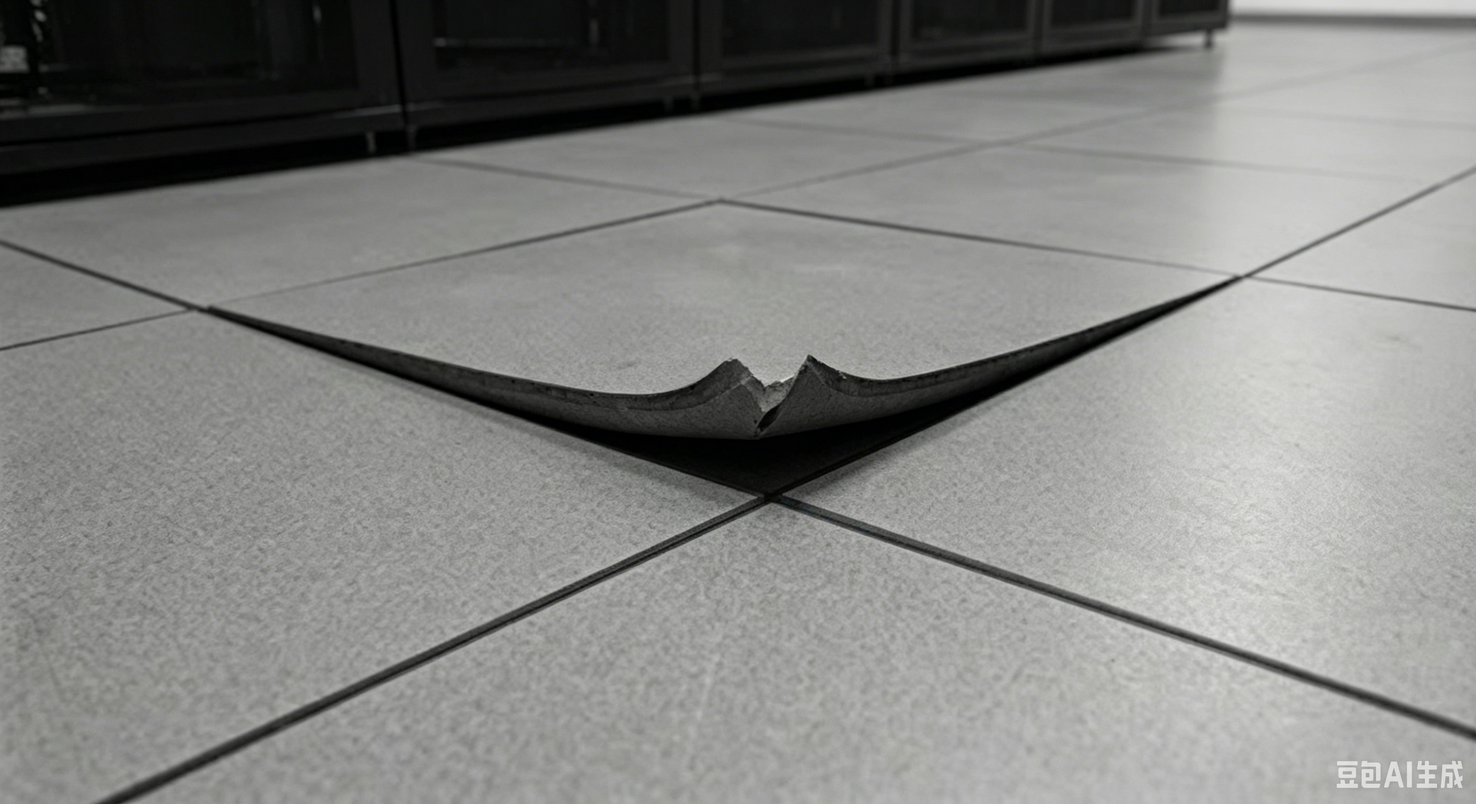floor_defect: (208, 280, 1260, 502)
